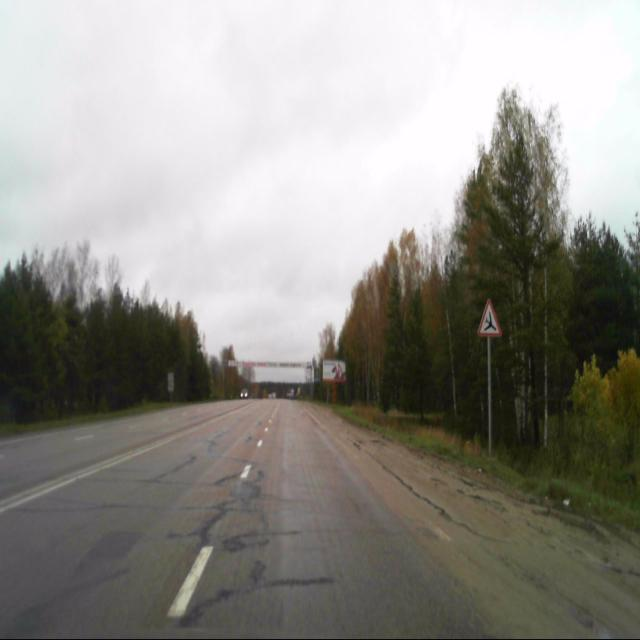object: (487, 340, 493, 458)
road sign: (477, 299, 502, 339)
